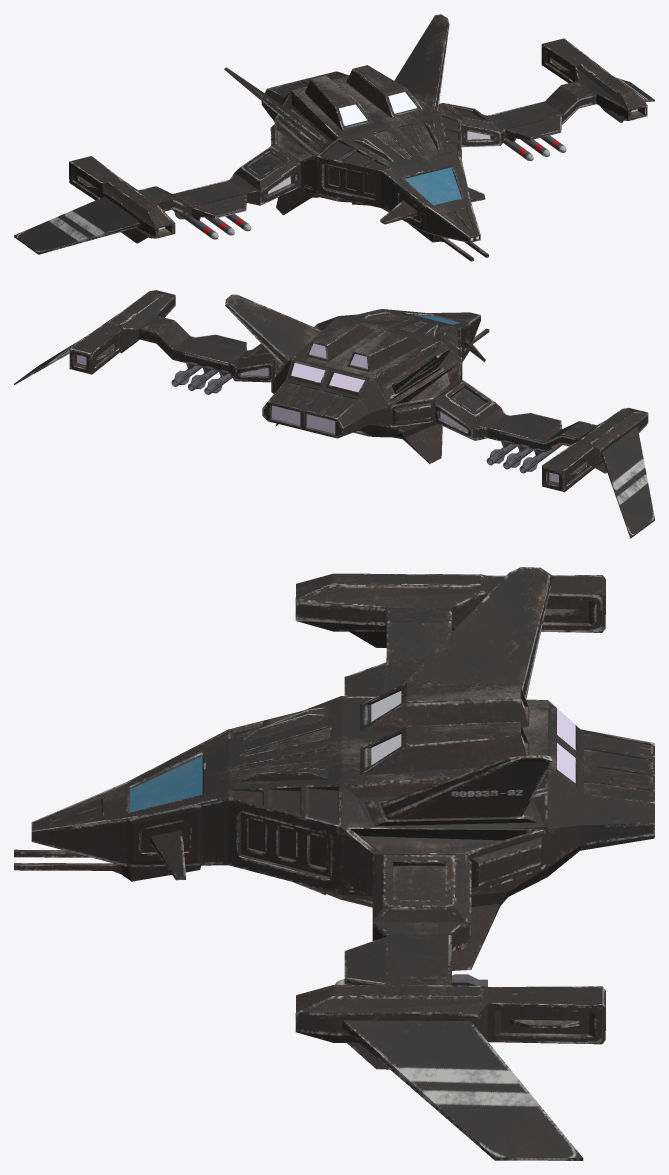
The model's file is Fighter_02.obj.
3 views of the same model, one above another, from view 1: azimuth 30°, elevation 25°; view 2: azimuth 150°, elevation 25°; view 3: azimuth 270°, elevation 25° (orthographic). The views are drawn at different scales.
Visible parts, largest first — view 1: Fighter_02_Cube.001; view 2: Fighter_02_Cube.001; view 3: Fighter_02_Cube.001.
Boxes of the visible parts, x1=… form: Fighter_02_Cube.001: x1=14, y1=14, x2=654, y2=261; Fighter_02_Cube.001: x1=14, y1=290, x2=654, y2=538; Fighter_02_Cube.001: x1=14, y1=567, x2=654, y2=1160.
Bounding box in the file's own units: 16.41 × 3.43 × 8.2.
